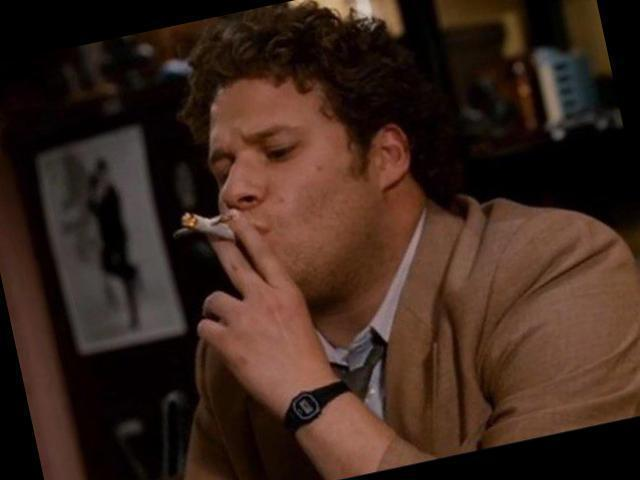Drunk: (204, 89, 371, 293)
